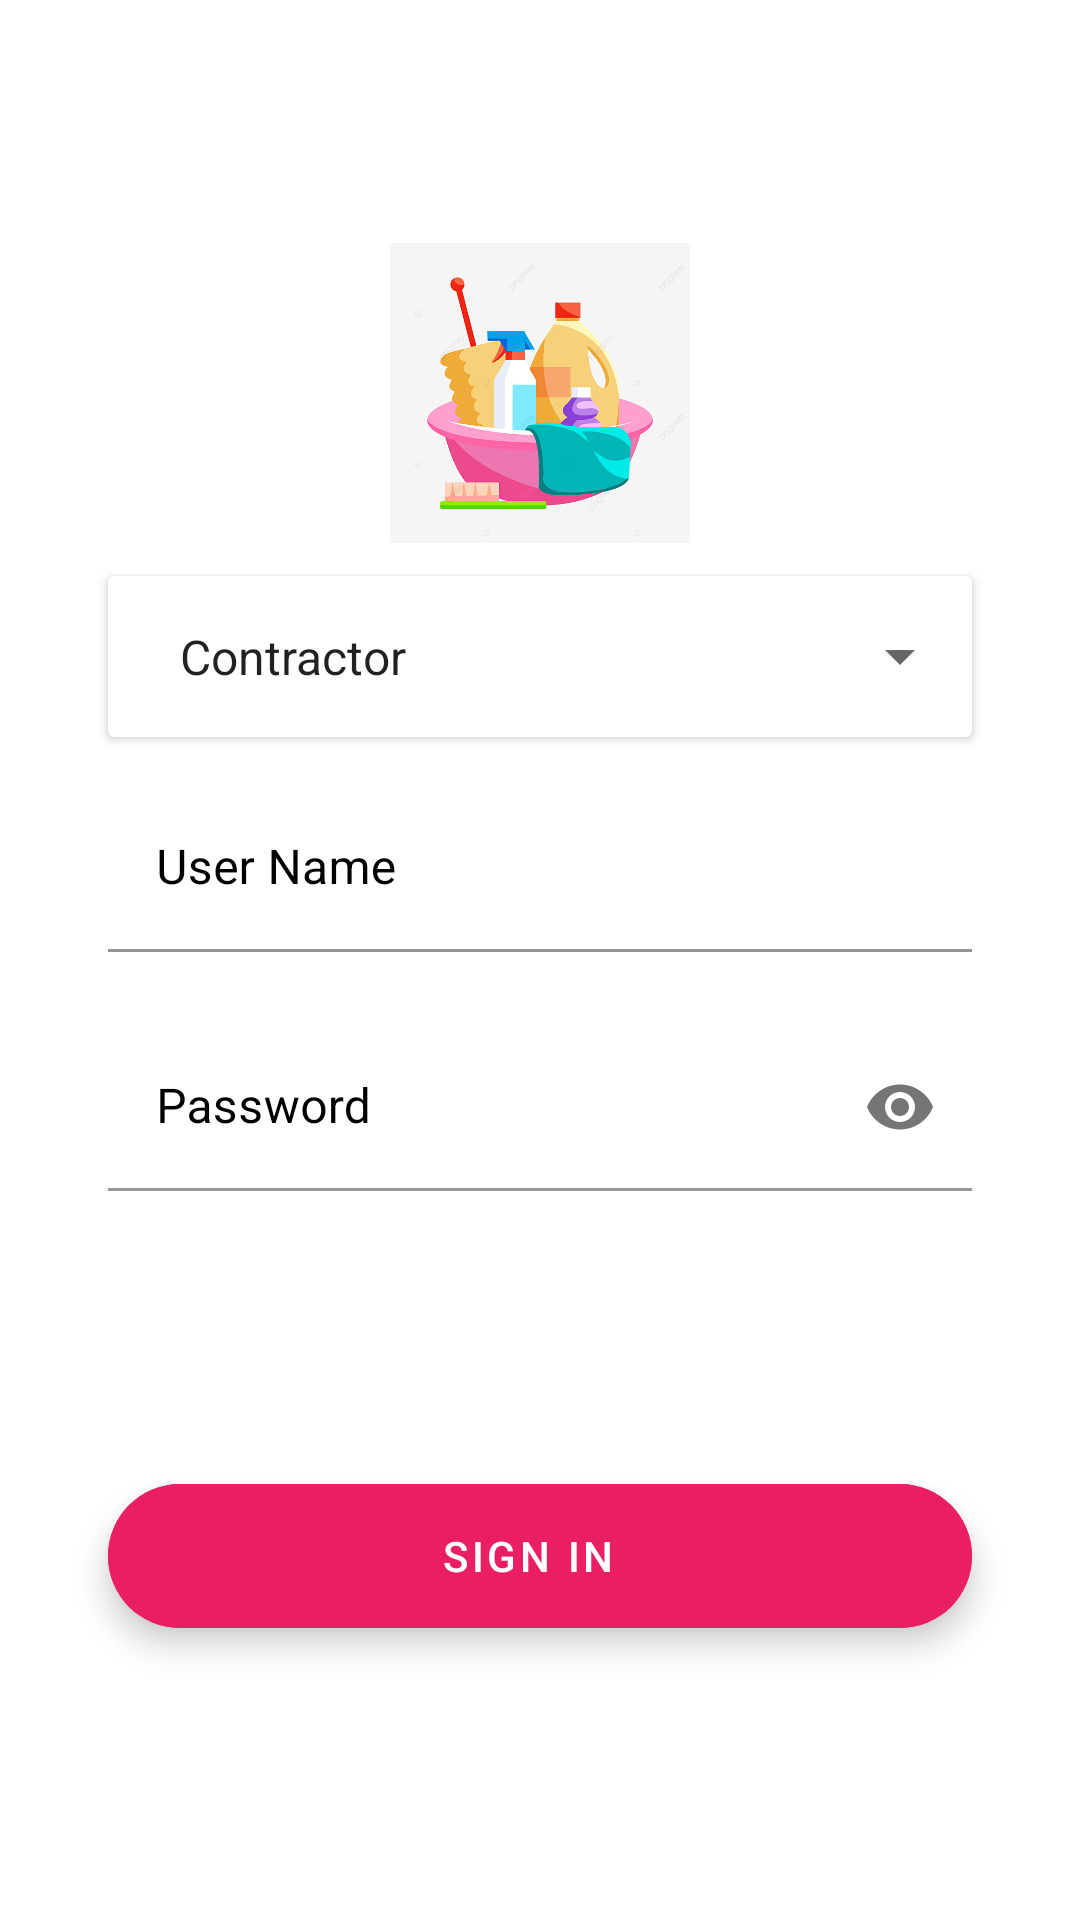

Named icons in this screenshot (1080px×1920px) and their bounding boxes, {"left": x1, "top": y1, "right": x2, "bottom": y2}:
cleaningdemopng: {"left": 390, "top": 243, "right": 690, "bottom": 543}
